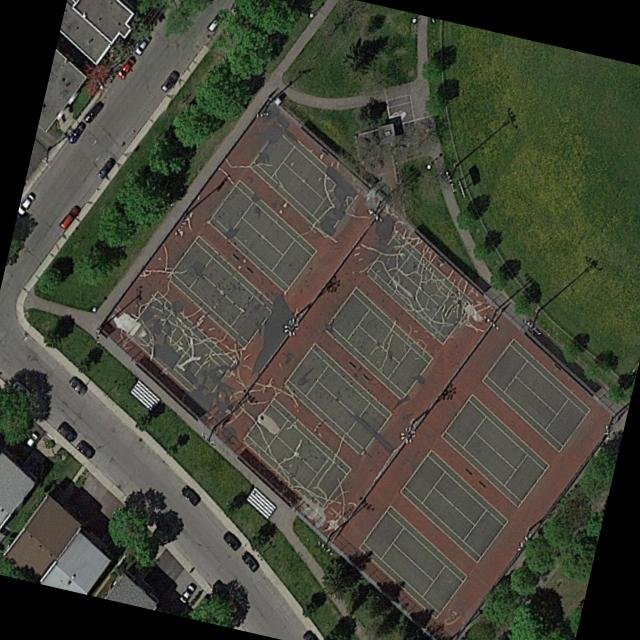small-vehicle: (114, 54, 136, 79), (66, 120, 87, 145), (82, 98, 103, 123), (57, 205, 78, 230), (205, 8, 224, 34), (178, 484, 199, 506), (54, 422, 75, 444), (175, 583, 195, 606), (132, 33, 151, 57), (238, 551, 258, 573), (220, 530, 240, 551), (157, 70, 176, 92), (95, 157, 113, 180), (9, 379, 29, 399), (66, 375, 85, 396), (72, 440, 93, 459), (23, 432, 37, 448)
